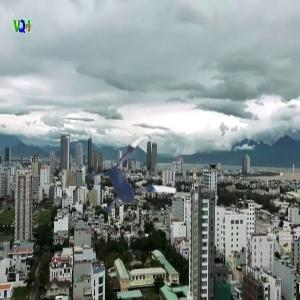drone: (80, 132, 183, 235)
